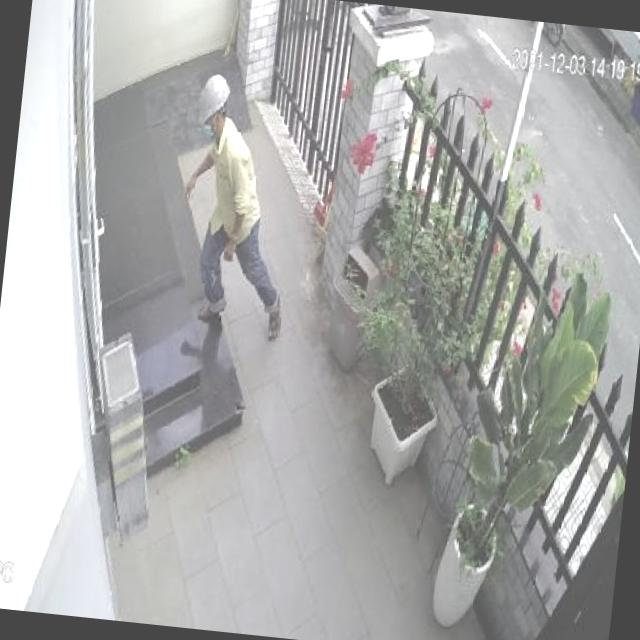Person: (168, 70, 306, 343)
